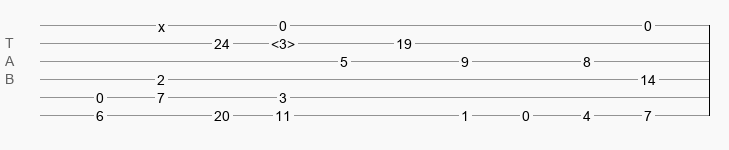0: (96, 90, 104, 100), (279, 18, 287, 28), (522, 108, 530, 118), (644, 18, 652, 28)
1: (461, 108, 469, 118)
11: (275, 108, 291, 118)
14: (640, 72, 656, 82)
19: (396, 36, 412, 46)
2: (157, 72, 165, 82)
20: (214, 108, 230, 118)
24: (214, 36, 230, 46)
3: (279, 90, 287, 100)
4: (583, 108, 591, 118)
5: (340, 54, 348, 64)
6: (96, 108, 104, 118)
7: (157, 90, 165, 100), (644, 108, 652, 118)
8: (583, 54, 591, 64)
9: (461, 54, 469, 64)
harmonic: (271, 36, 295, 46)
x: (158, 19, 165, 27)
